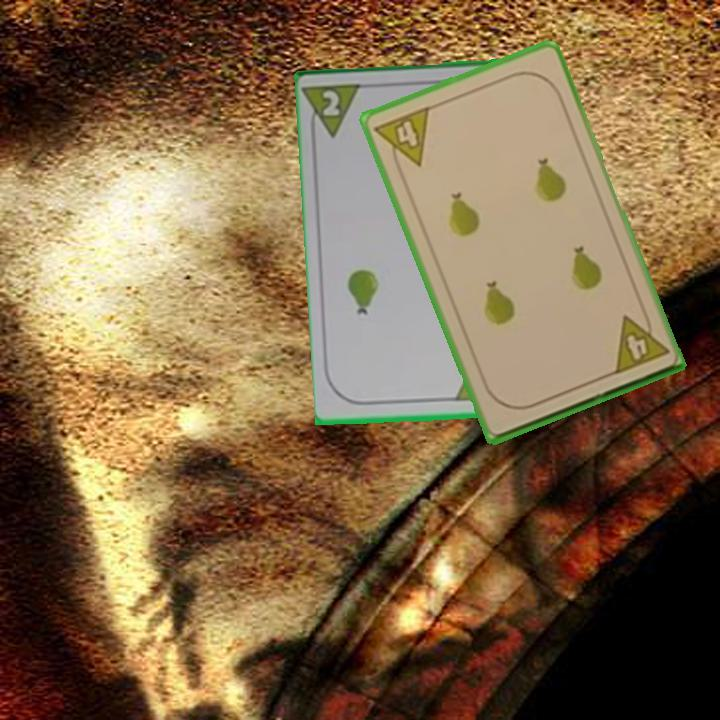2p: (303, 80, 369, 144)
4p: (371, 102, 433, 176), (609, 306, 672, 377)
